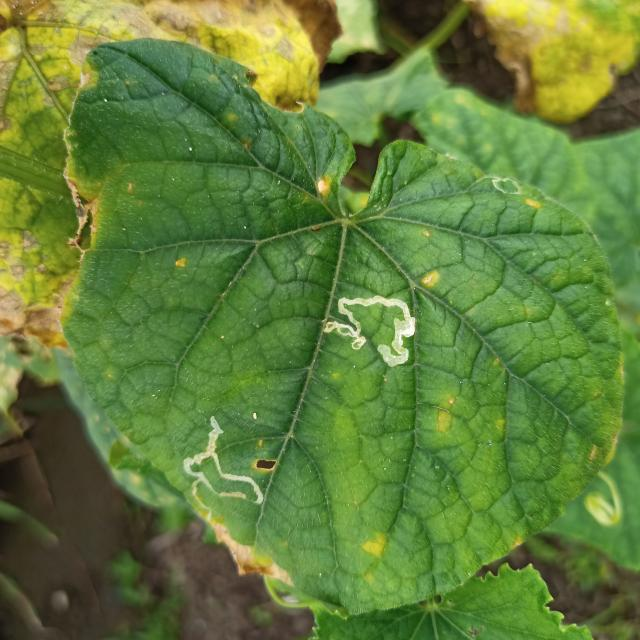disease_cucumber: (362, 530, 389, 586), (588, 425, 623, 465), (434, 393, 458, 436), (314, 174, 338, 201), (421, 271, 442, 289), (174, 256, 190, 274), (525, 193, 541, 210)
